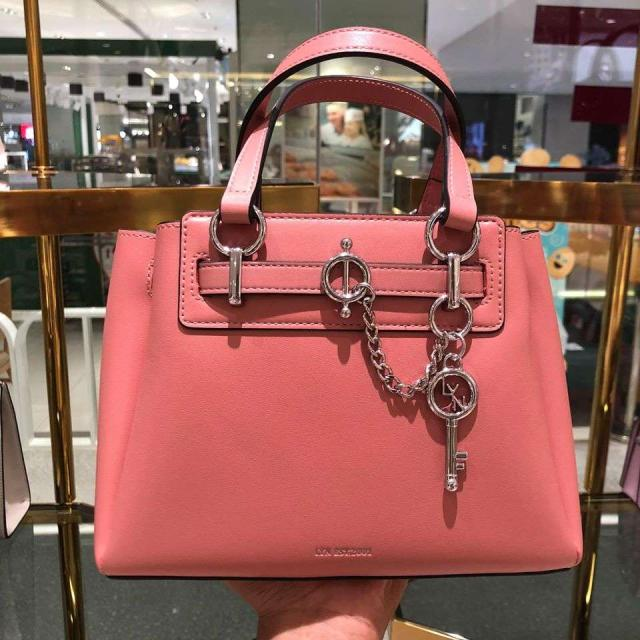Handbag: (80, 180, 580, 581)
